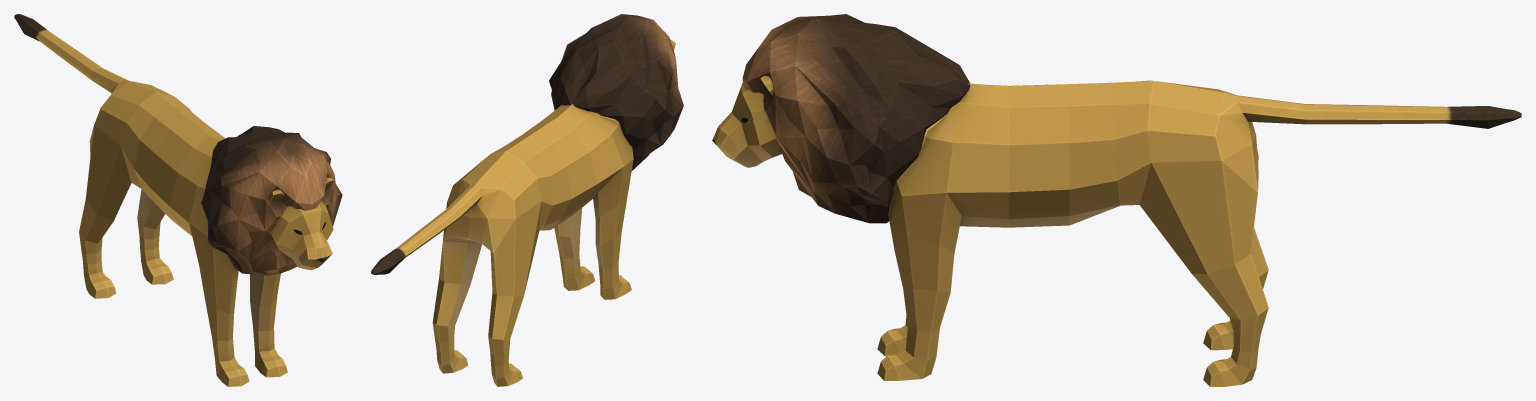
The model's file is prop_pz_lion.glb.
The picture shows the model from 3 angles, left to right: view 1: azimuth 30°, elevation 25°; view 2: azimuth 150°, elevation 25°; view 3: azimuth 270°, elevation 25°; orthographic projection. The views are drawn at different scales.
Visible parts, largest first — view 1: Lion_mesh; view 2: Lion_mesh; view 3: Lion_mesh.
Boxes of the visible parts, <box> form: Lion_mesh: <box>14,14,342,386</box>; Lion_mesh: <box>371,14,683,386</box>; Lion_mesh: <box>712,14,1521,386</box>.
Bounding box in the file's own units: 3.4 × 6.76 × 14.46.
1 material, 1 textured.
